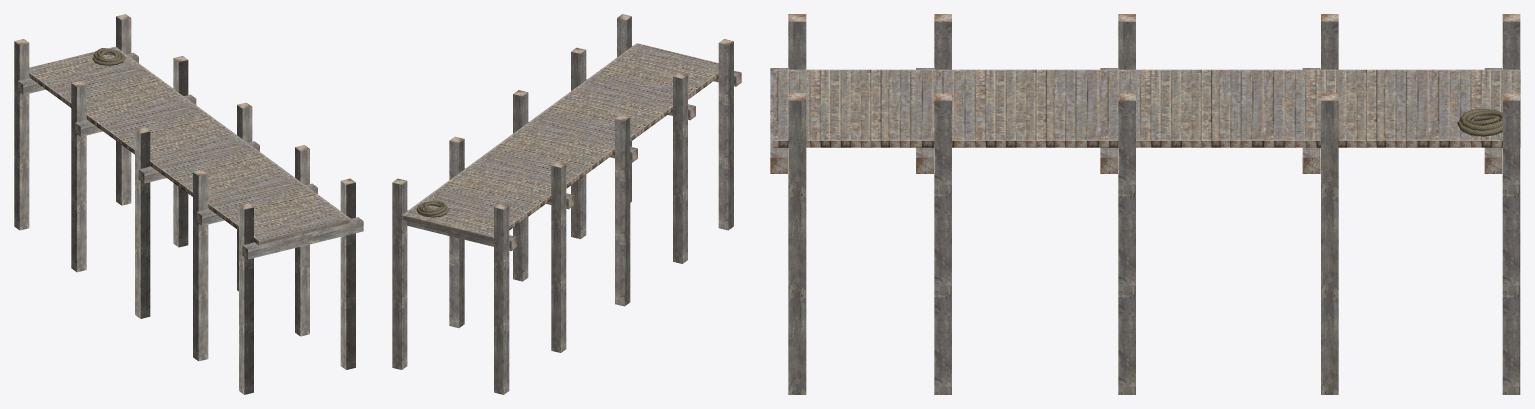
Rendered from pier.dae.
3 views of the same model, side by side, from view 1: azimuth 30°, elevation 25°; view 2: azimuth 150°, elevation 25°; view 3: azimuth 270°, elevation 25° (orthographic). The views are drawn at different scales.
Parts seen in each view (by area): view 1: Dockm; view 2: Dockm; view 3: Dockm.
Part boxes in pixels (x1=…): Dockm: x1=14, y1=14, x2=363, y2=394; Dockm: x1=392, y1=14, x2=741, y2=394; Dockm: x1=770, y1=14, x2=1520, y2=394.
Bounding box in the file's own units: 248 × 874 × 379.
